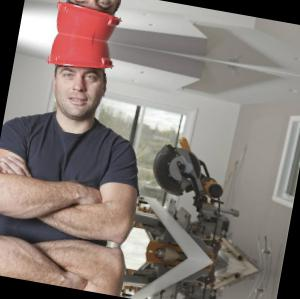helmet: (31, 31, 126, 126), (44, 1, 136, 47)
